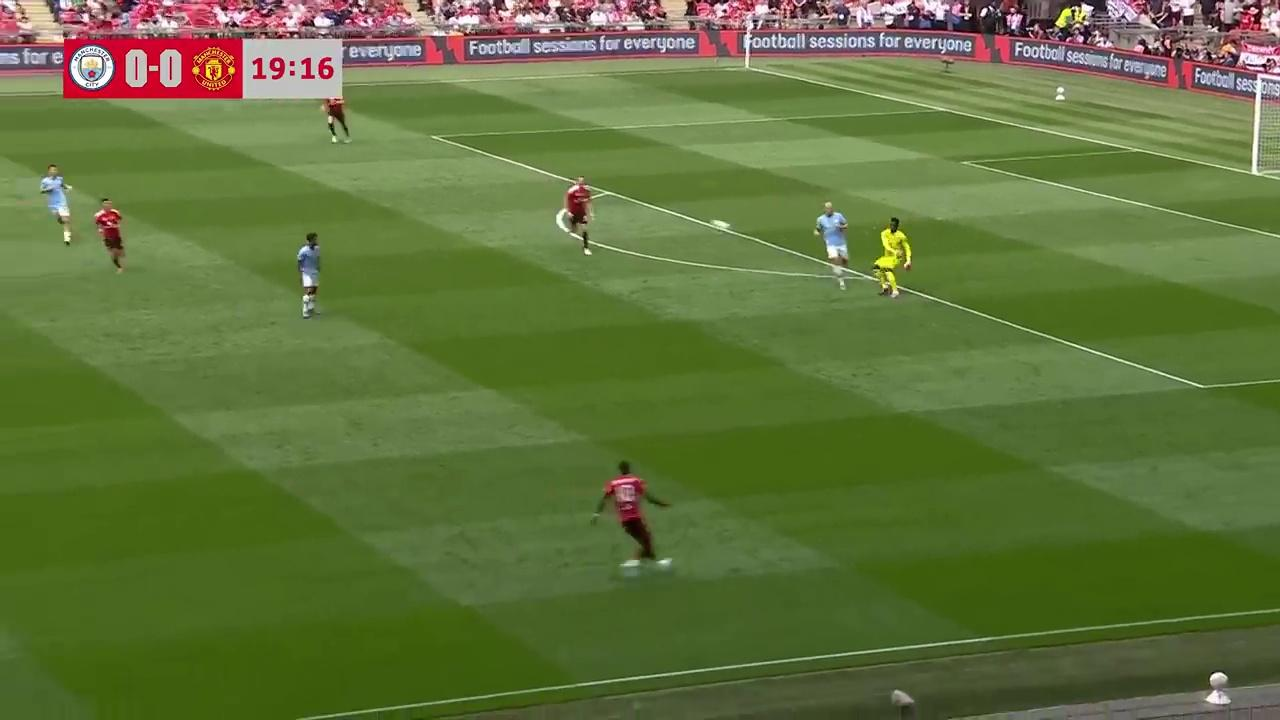ball: (715, 217, 733, 233)
player: (593, 461, 675, 573), (814, 202, 849, 285), (558, 177, 594, 256), (873, 219, 908, 299), (39, 163, 73, 244), (93, 196, 125, 274), (296, 231, 321, 318), (323, 91, 350, 143)
